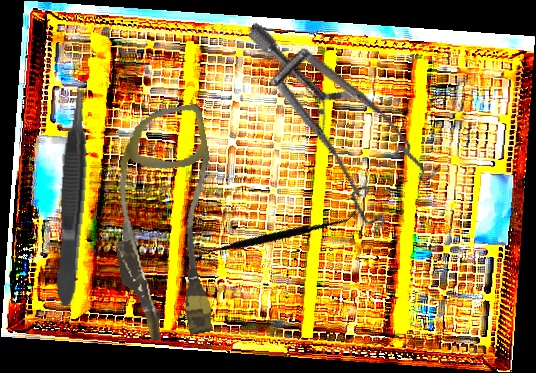Cannula: (93, 102, 240, 346)
Spatula Surgical: (189, 149, 360, 322)
Speculum: (197, 20, 465, 249)
Tissue Forceps: (49, 83, 95, 307)
